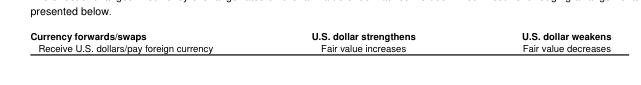table: (29, 28, 610, 53)
table column: (29, 28, 261, 53), (261, 28, 467, 53), (467, 28, 610, 53)
table column header: (29, 28, 610, 41)
table row: (29, 28, 610, 41), (29, 41, 610, 53)
